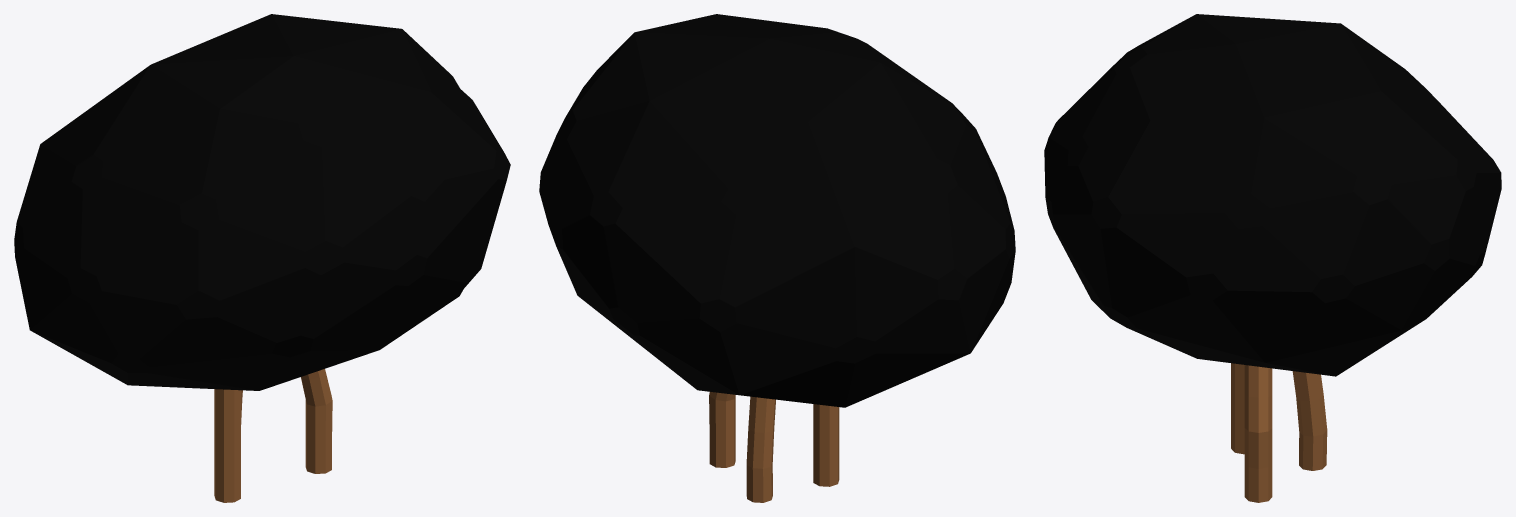
The model's file is Bush_3_Berries.fbx.
The picture shows the model from 3 angles, left to right: view 1: azimuth 30°, elevation 25°; view 2: azimuth 150°, elevation 25°; view 3: azimuth 270°, elevation 25°; orthographic projection. The views are drawn at different scales.
Parts seen in each view (by area): view 1: Bush_3_Berries; view 2: Bush_3_Berries; view 3: Bush_3_Berries.
Boxes of the visible parts, box(x1,y1,x2,y2) form: Bush_3_Berries: box(14, 14, 510, 502); Bush_3_Berries: box(539, 14, 1015, 502); Bush_3_Berries: box(1044, 14, 1501, 502).
Size of the model in its own units: 0.4155 by 0.3958 by 0.3769.
